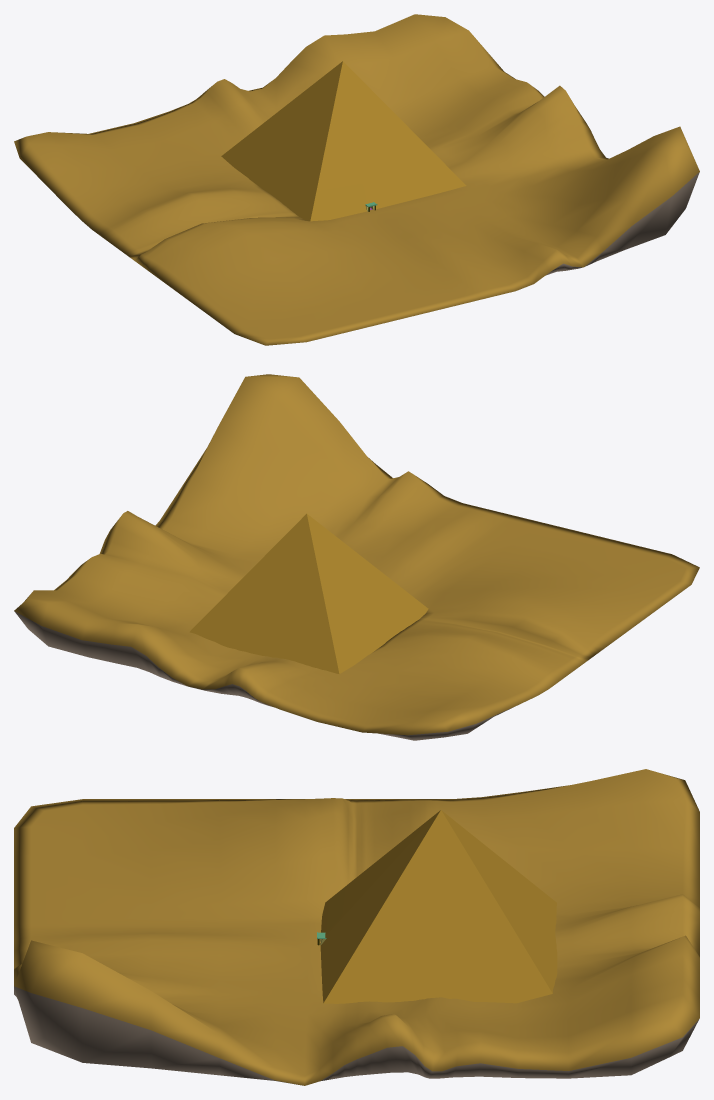
The model's file is piramideembed.fbx.
The picture shows the model from 3 angles, top to bottom: view 1: azimuth 30°, elevation 25°; view 2: azimuth 150°, elevation 25°; view 3: azimuth 270°, elevation 25°; orthographic projection. The views are drawn at different scales.
Visible parts, largest first — view 1: floor_desert, pyramide; view 2: floor_desert, pyramide; view 3: floor_desert, pyramide.
Part boxes in pixels (left/top/right/bottom): floor_desert: left=14, top=14, right=699, bottom=345; pyramide: left=221, top=61, right=466, bottom=221; floor_desert: left=14, top=374, right=699, bottom=740; pyramide: left=189, top=513, right=428, bottom=674; floor_desert: left=14, top=769, right=699, bottom=1085; pyramide: left=320, top=810, right=557, bottom=1003.
Bounding box in the file's own units: 1086 × 299 × 1083.
